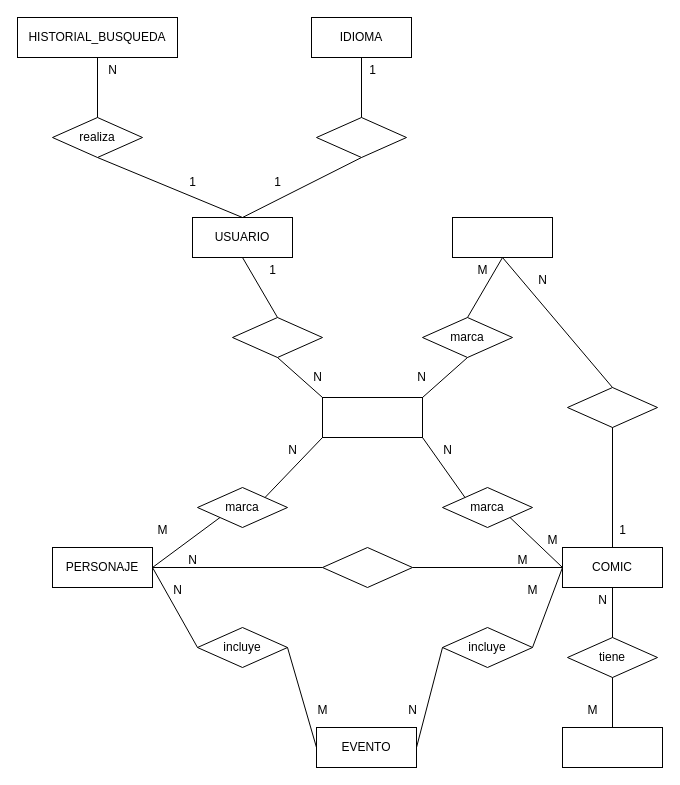
Some shapes in this 680 by 785 pixel diagram are drawn without their labels. The centre of each missing label's shape, as x and y in pixels:
aparece: point 367,567
CREADOR: point 612,747
FAVORITOS: point 372,417
guarda: point 277,337
pertenece: point 612,407
SERIE: point 502,237
utiliza: point 361,137
